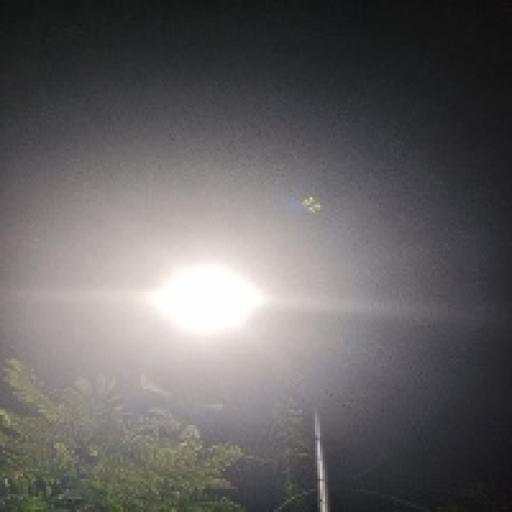Working: (136, 248, 274, 362)
